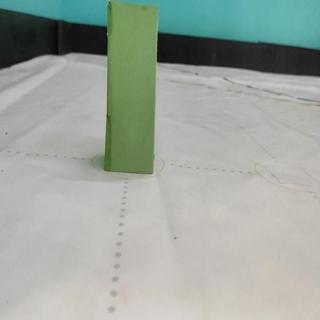greenbox: (105, 0, 158, 175)
